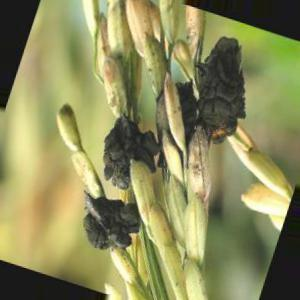Leaf_Scald: (193, 36, 247, 146), (85, 194, 138, 251), (106, 117, 145, 193)
